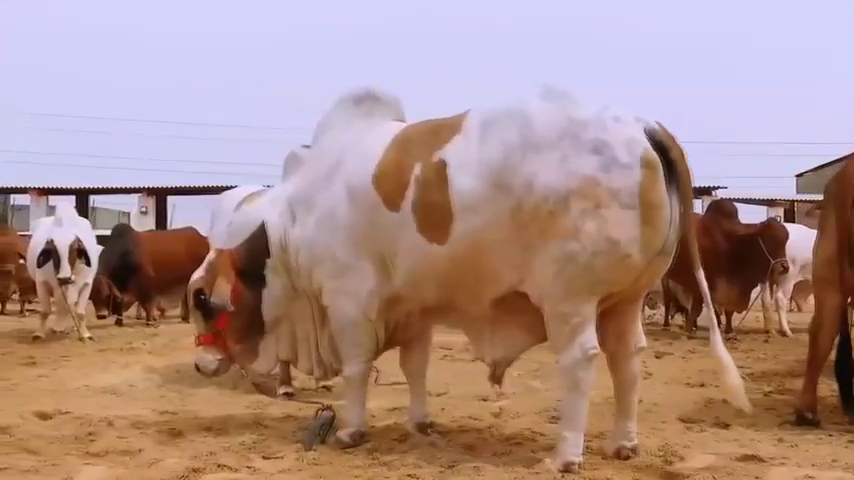bo: (177, 70, 756, 474), (659, 187, 790, 342), (90, 210, 218, 330), (802, 134, 854, 426), (19, 180, 98, 357), (767, 213, 835, 342), (1, 210, 35, 324)
